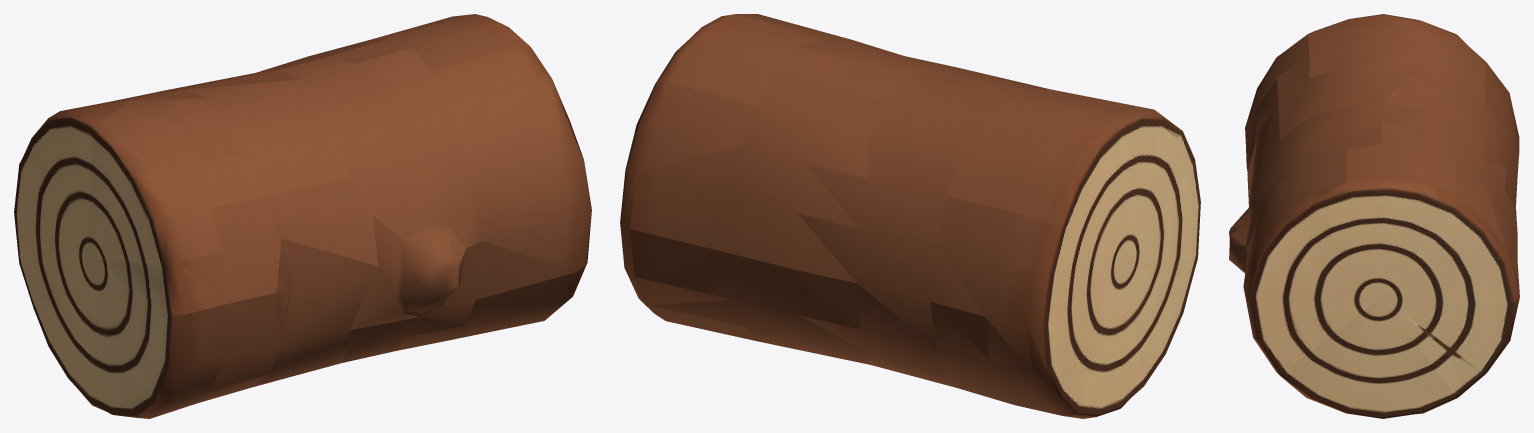
File: wood_log.glb
3 views of the same model, side by side, from view 1: azimuth 30°, elevation 25°; view 2: azimuth 150°, elevation 25°; view 3: azimuth 270°, elevation 25° (orthographic). The views are drawn at different scales.
Parts seen in each view (by area): view 1: mesh_node; view 2: mesh_node; view 3: mesh_node.
Part boxes in pixels (left/top/right/bottom): mesh_node: left=14, top=14, right=591, bottom=418; mesh_node: left=620, top=14, right=1200, bottom=418; mesh_node: left=1229, top=14, right=1519, bottom=418.
Size of the model in its own units: 0.998 by 0.6465 by 0.709.
1 material, 1 textured.
